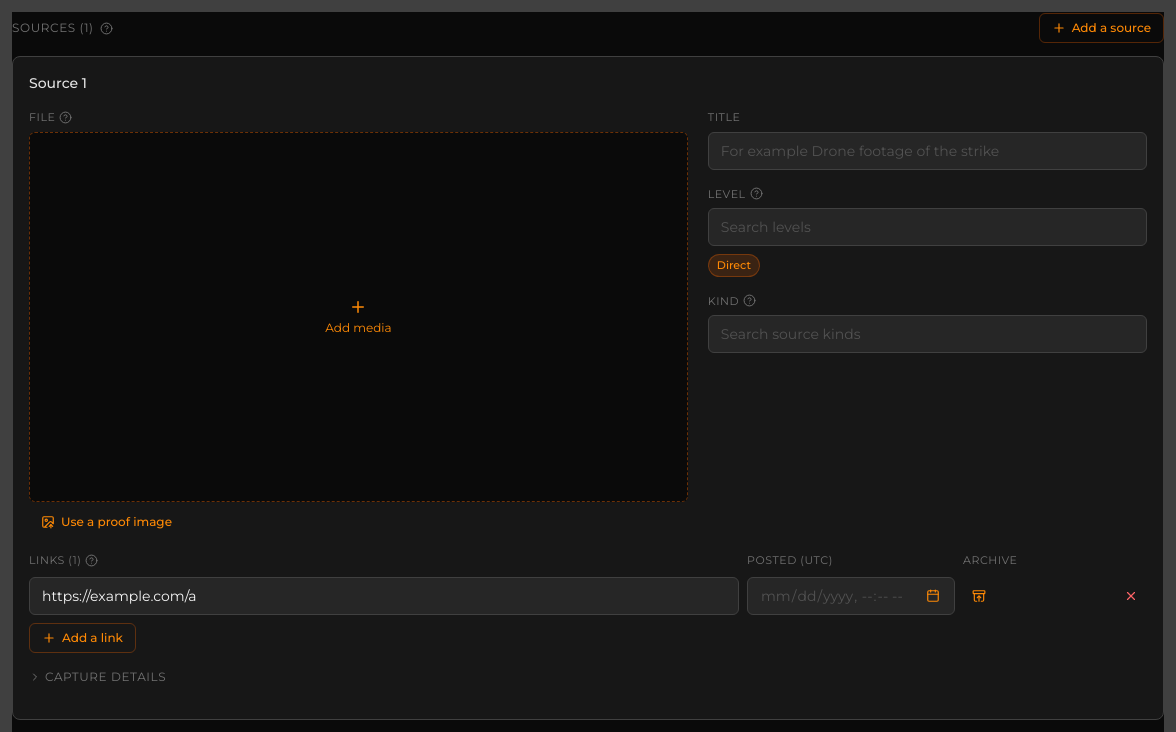
Test: SourcesField › prints a proof image refusal under the file slot
What coordinates should you click on to do the following:
click the button "Use a proof image"
I would click on:
 (106, 522)
Its box is x1=29 y1=508 x2=184 y2=536.
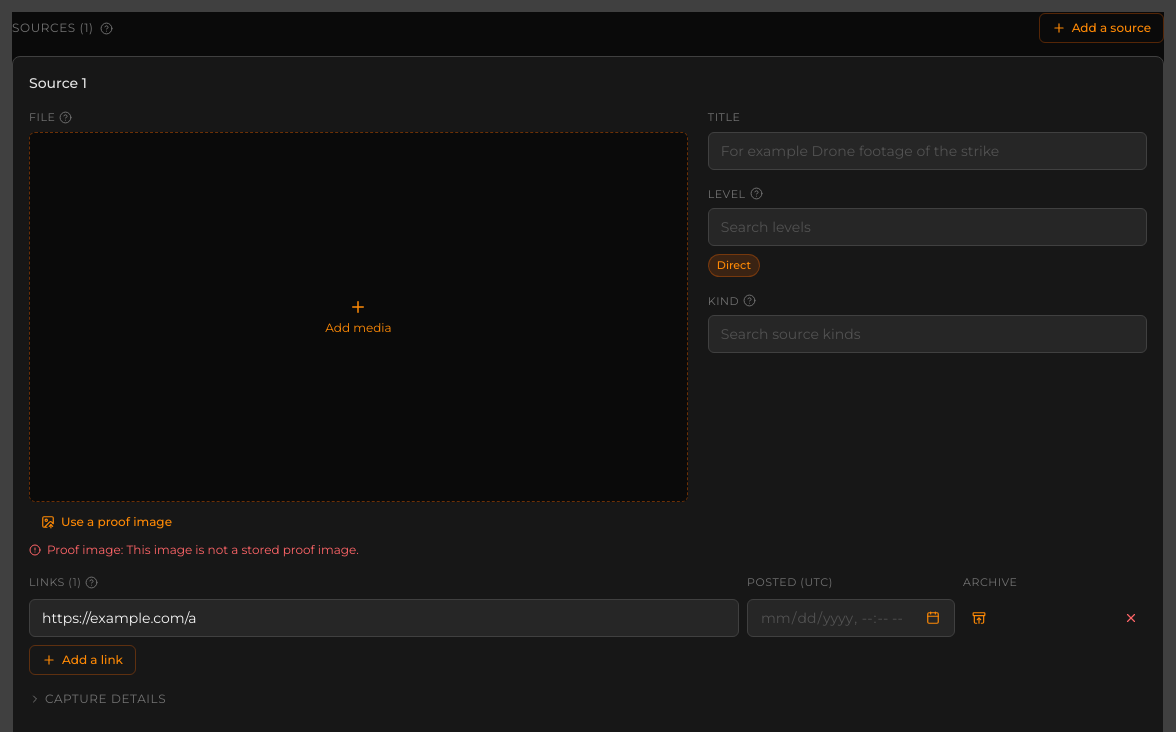
Result: the message reads "Proof image: This image is not a stored proof image." at x1=29 y1=542 x2=359 y2=557
